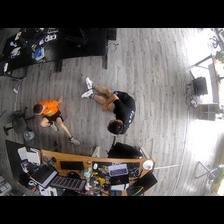fall: (79, 77, 134, 135), (32, 97, 81, 147)
